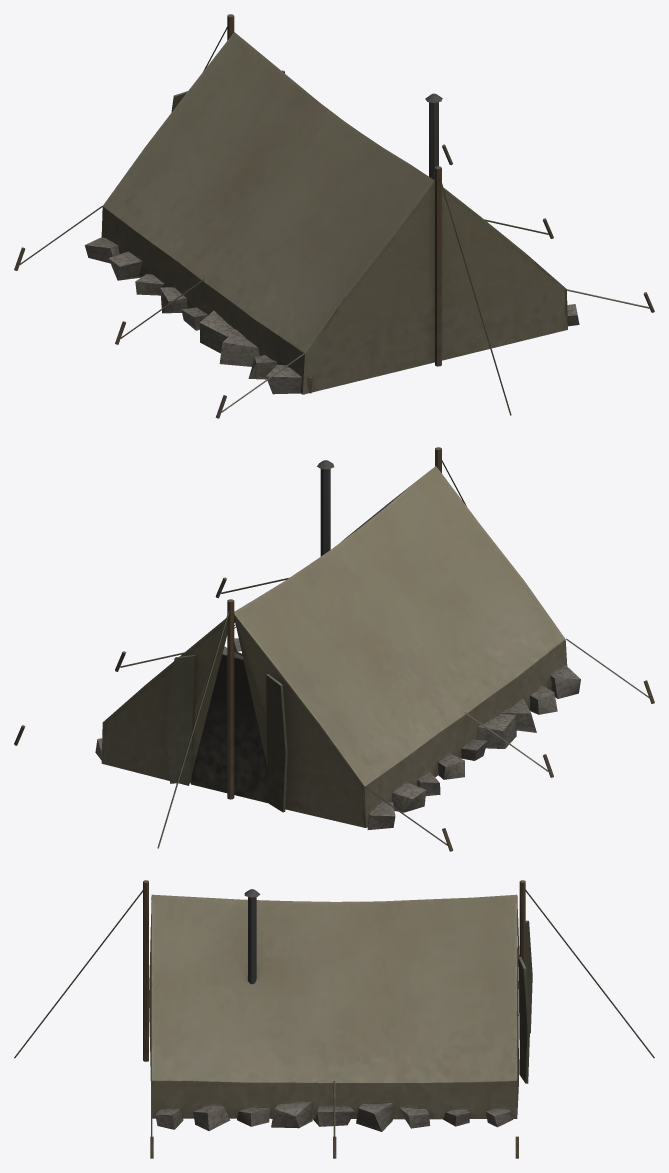
Rendered from tent.glb.
3 renders of one model, top to bottom at view 1: azimuth 30°, elevation 25°; view 2: azimuth 150°, elevation 25°; view 3: azimuth 270°, elevation 25°, orthographic. The views are drawn at different scales.
Parts seen in each view (by area): view 1: tent.001; view 2: tent.001; view 3: tent.001.
Part boxes in pixels (<box>): tent.001: <box>14,14,654,418</box>; tent.001: <box>14,447,654,851</box>; tent.001: <box>14,880,654,1158</box>.
Bounding box in the file's own units: 5.03 × 2.39 × 7.01.
Materials: 1 (1 with a texture image).
